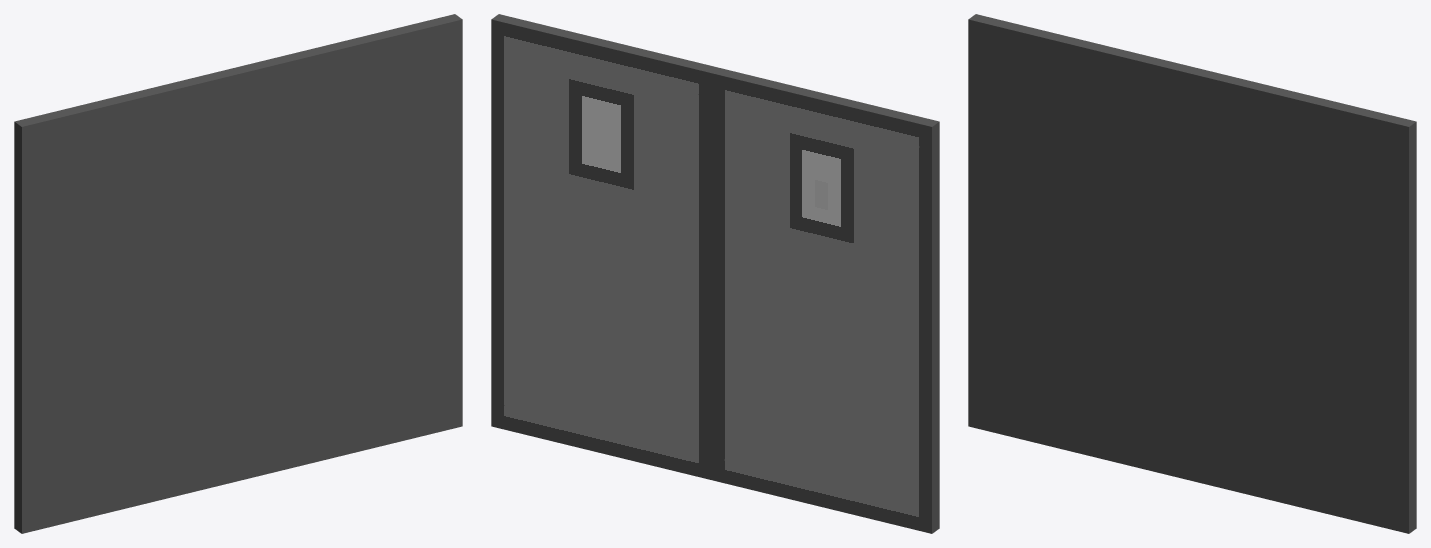
Rendered from usi.fbx.
3 renders of one model, left to right at view 1: azimuth 30°, elevation 25°; view 2: azimuth 150°, elevation 25°; view 3: azimuth 330°, elevation 25°, orthographic.
Visible parts, largest first — view 1: cube_1, cube; view 2: cube_1, cube; view 3: cube, cube_1.
Part boxes in pixels (x1,y1,x2,y2): cube_1: [14, 68, 242, 533]; cube: [235, 14, 462, 479]; cube_1: [711, 68, 939, 533]; cube: [491, 14, 718, 479]; cube: [1188, 68, 1416, 533]; cube_1: [968, 14, 1195, 479].
Size of the model in its own units: 212 by 188 by 6.25.
Materials: 1 (1 with a texture image).
